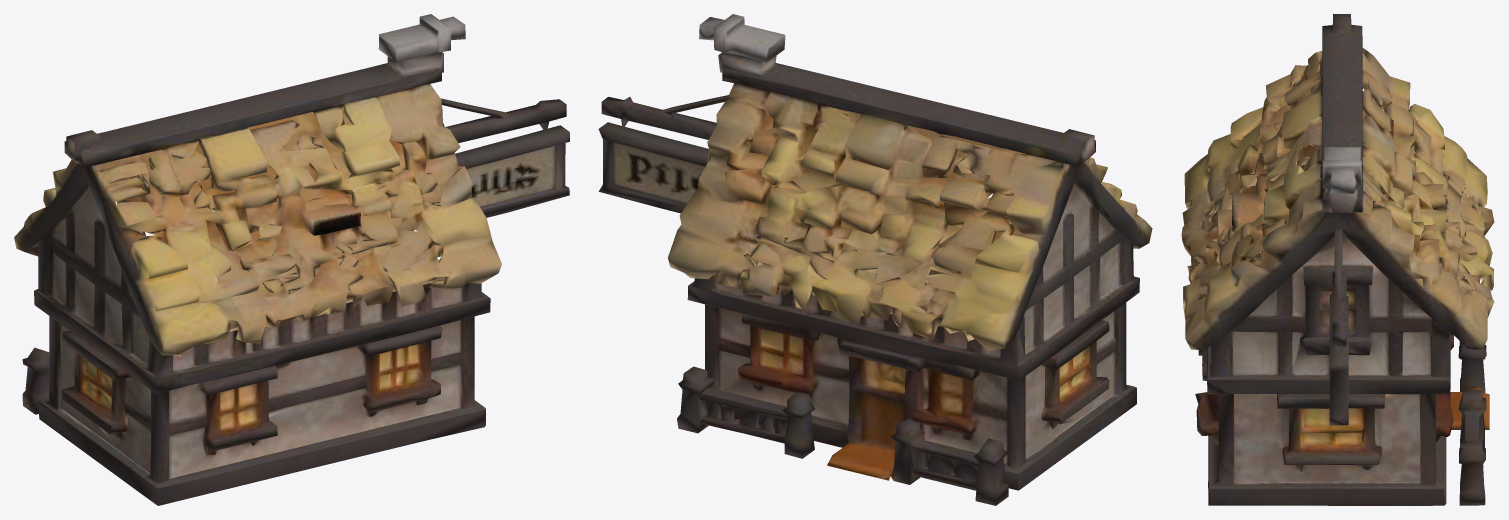
File: pub.glb
The picture shows the model from 3 angles, left to right: view 1: azimuth 30°, elevation 25°; view 2: azimuth 150°, elevation 25°; view 3: azimuth 270°, elevation 25°; orthographic projection.
Visible parts, largest first — view 1: PubBody; view 2: PubBody; view 3: PubBody.
Part boxes in pixels (x1,y1,x2,y2): PubBody: (14, 14, 569, 505); PubBody: (598, 14, 1152, 505); PubBody: (1181, 14, 1494, 505).
Size of the model in its own units: 8 by 5.56 by 4.4.
1 material, 1 textured.
